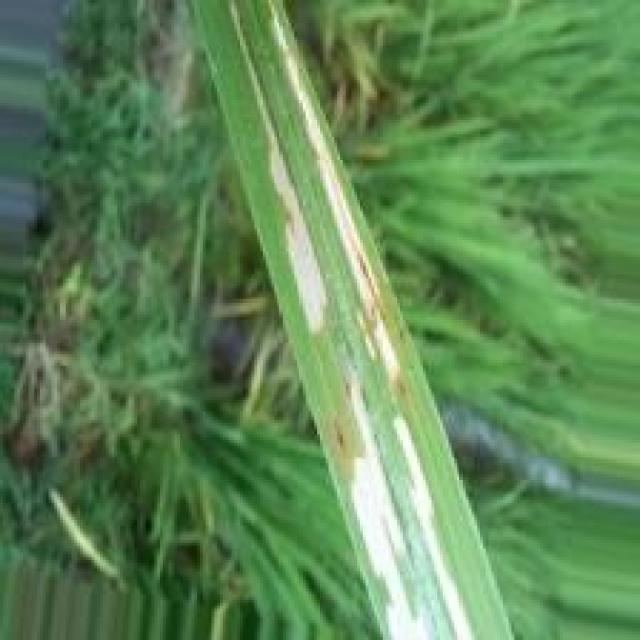Rice_Hispa: (267, 14, 404, 389), (342, 381, 437, 633), (396, 417, 477, 640), (267, 140, 328, 336)
